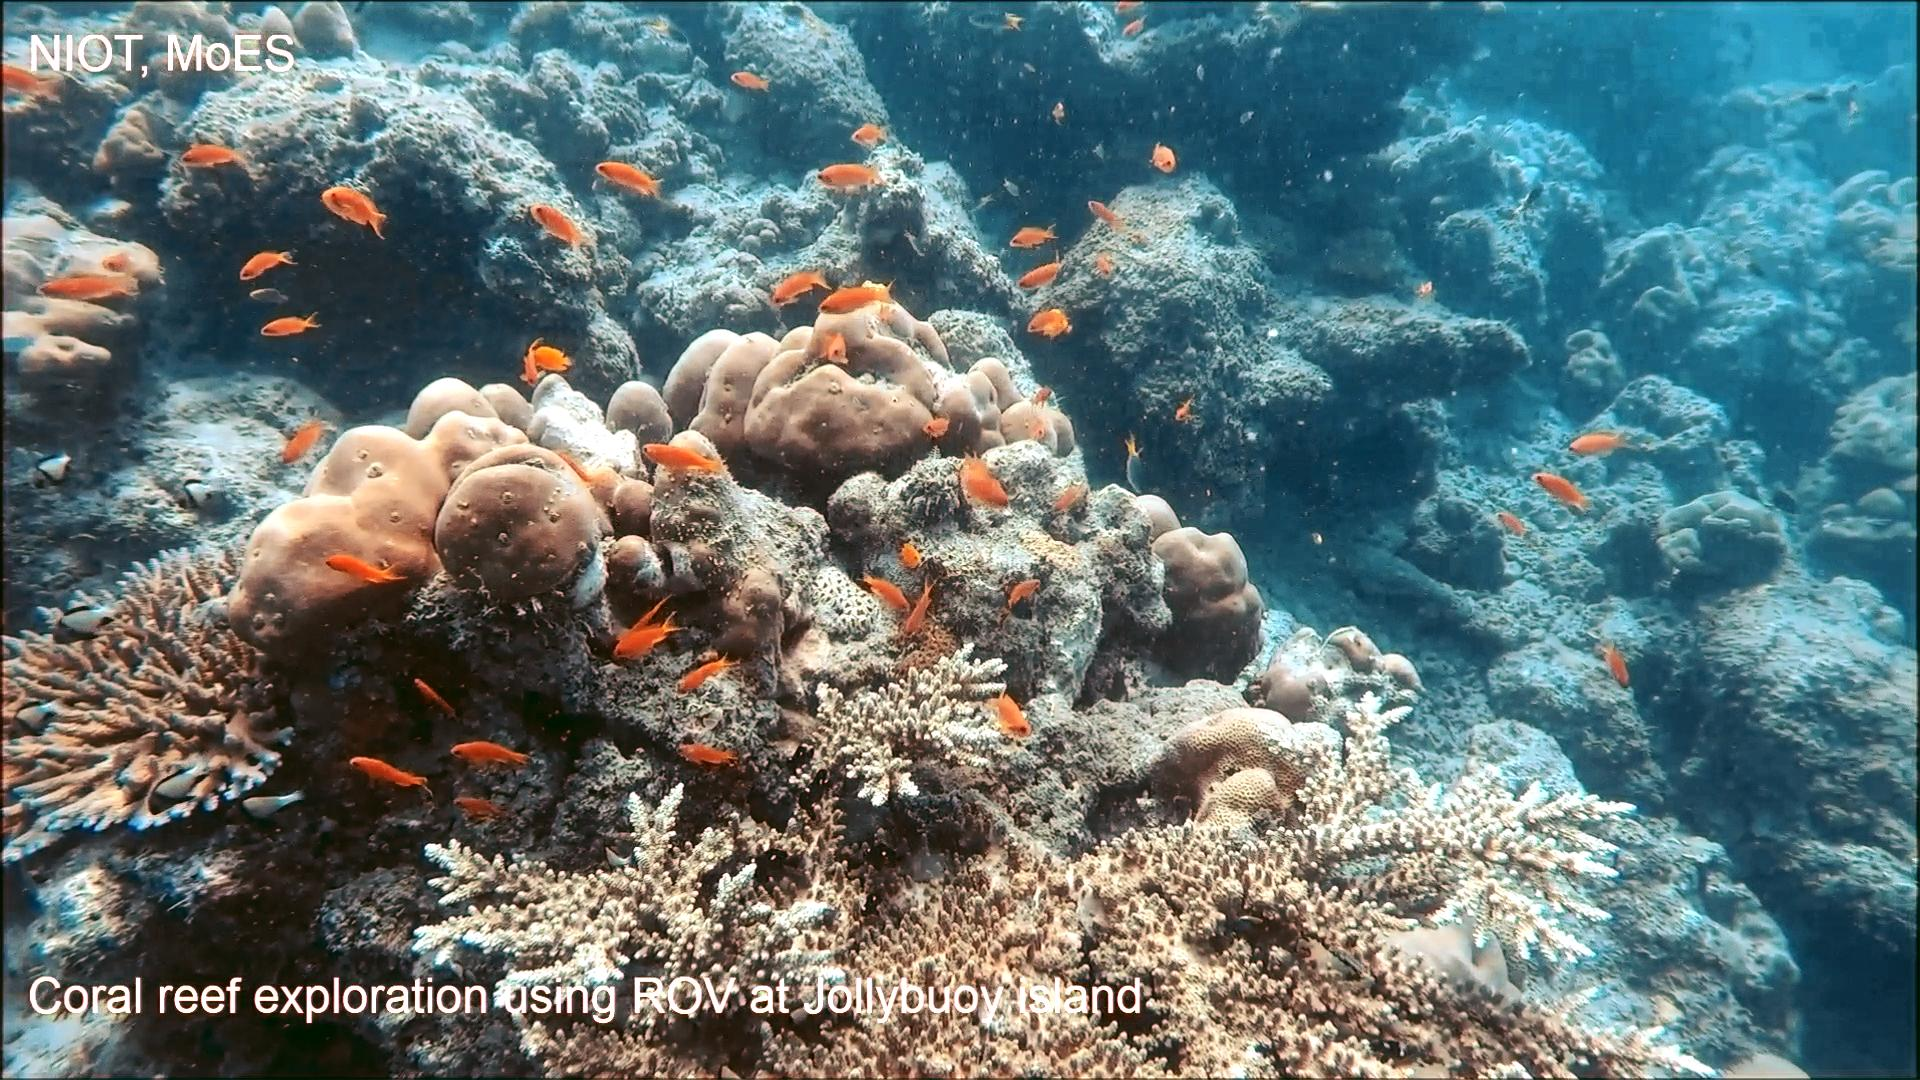Porites-Porites pukoensis: (216, 372, 611, 663), (615, 278, 1079, 498)
